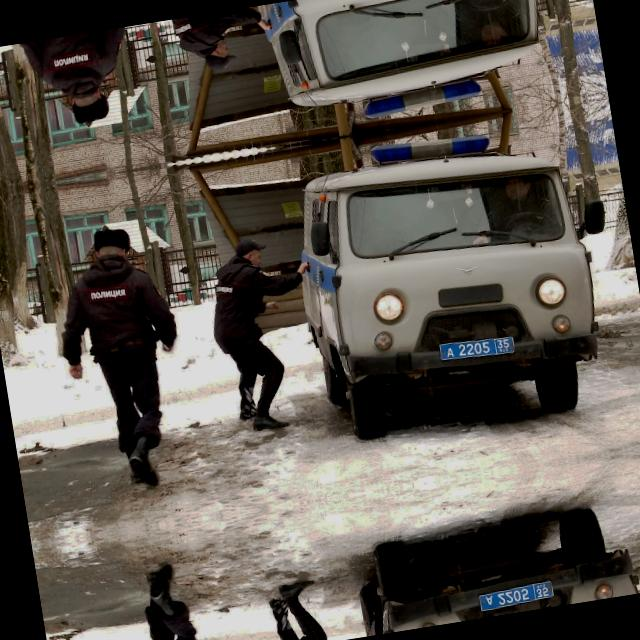police: (440, 329, 518, 366), (478, 577, 556, 614)
